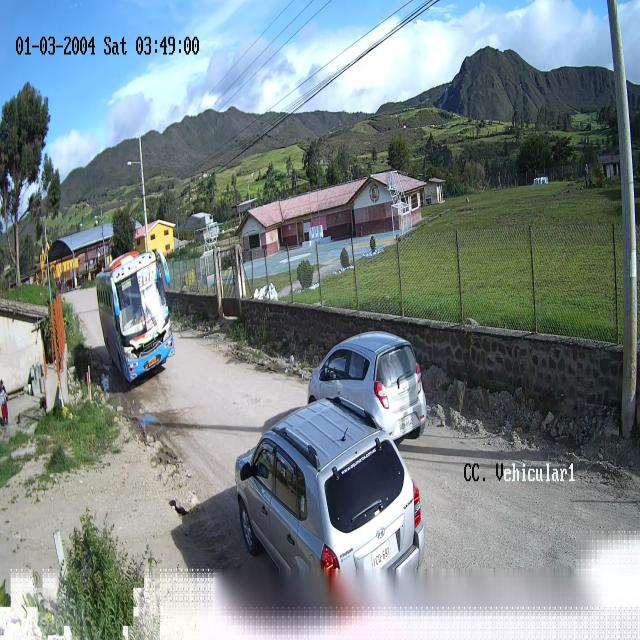BUS: (96, 251, 174, 385)
SED: (307, 332, 433, 442)
SUV: (234, 402, 426, 584)
